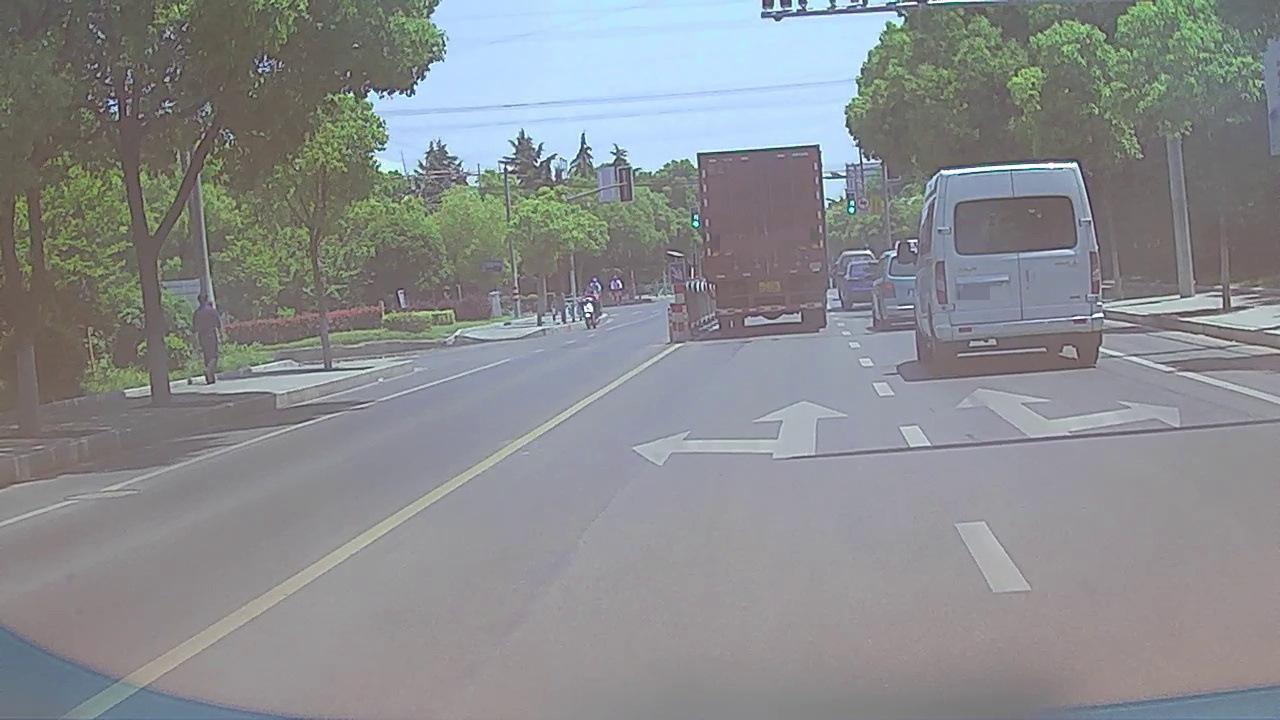traffic_light: (846, 192, 857, 215), (690, 208, 700, 230)
